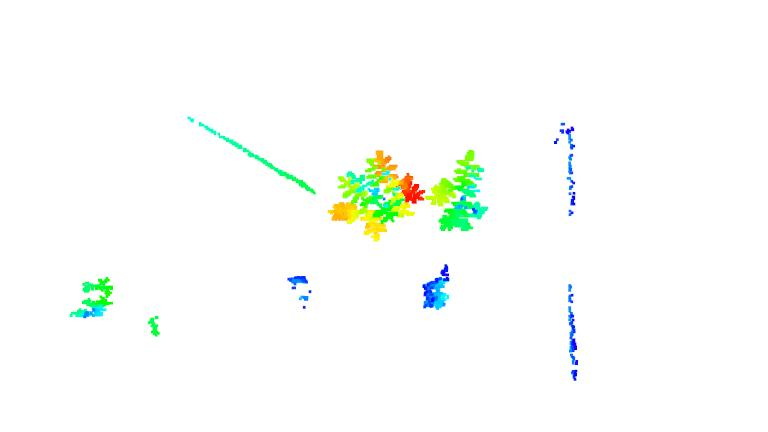chickpea: (349, 145, 429, 219), (428, 151, 492, 235), (326, 170, 394, 240), (64, 275, 116, 322), (424, 264, 458, 317), (284, 275, 320, 313)
